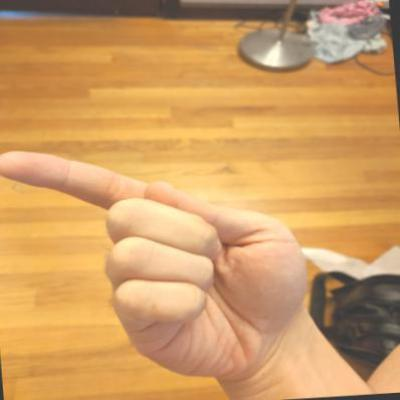hand: (0, 126, 325, 399)
